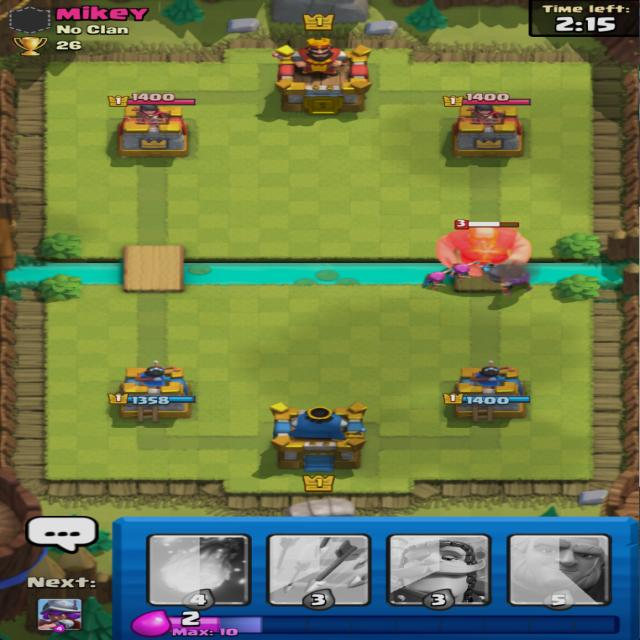2_Elixer: (181, 612, 201, 627)
Archer_Troop: (421, 270, 450, 291), (449, 262, 474, 282)
Arrows_Loading: (268, 533, 370, 611)
Bridge: (455, 245, 515, 294), (124, 244, 184, 292)
Elixer_Bar: (130, 608, 621, 638)
Emote: (27, 516, 100, 554)
Enemy_Giant_Troop: (437, 218, 534, 276)
Enemy_King_Tower: (259, 36, 375, 127)
Enemy_Princess_Tower: (440, 92, 534, 167), (105, 92, 198, 167)
Fireball_Loading: (146, 534, 252, 610)
Giant_Loading: (507, 534, 612, 612)
King_Tower: (251, 400, 374, 480)
Knight_Loading: (387, 534, 493, 612)
Mini_Pekka_Troop: (487, 263, 512, 285)
Musketeer_Next: (27, 575, 96, 633)
Musketeer_Troop: (502, 269, 531, 295)
Princess_Tower: (105, 359, 198, 426), (439, 362, 535, 424)
River: (184, 258, 455, 284), (508, 260, 640, 284), (0, 259, 123, 284)
Time_Left: (529, 0, 640, 36)
